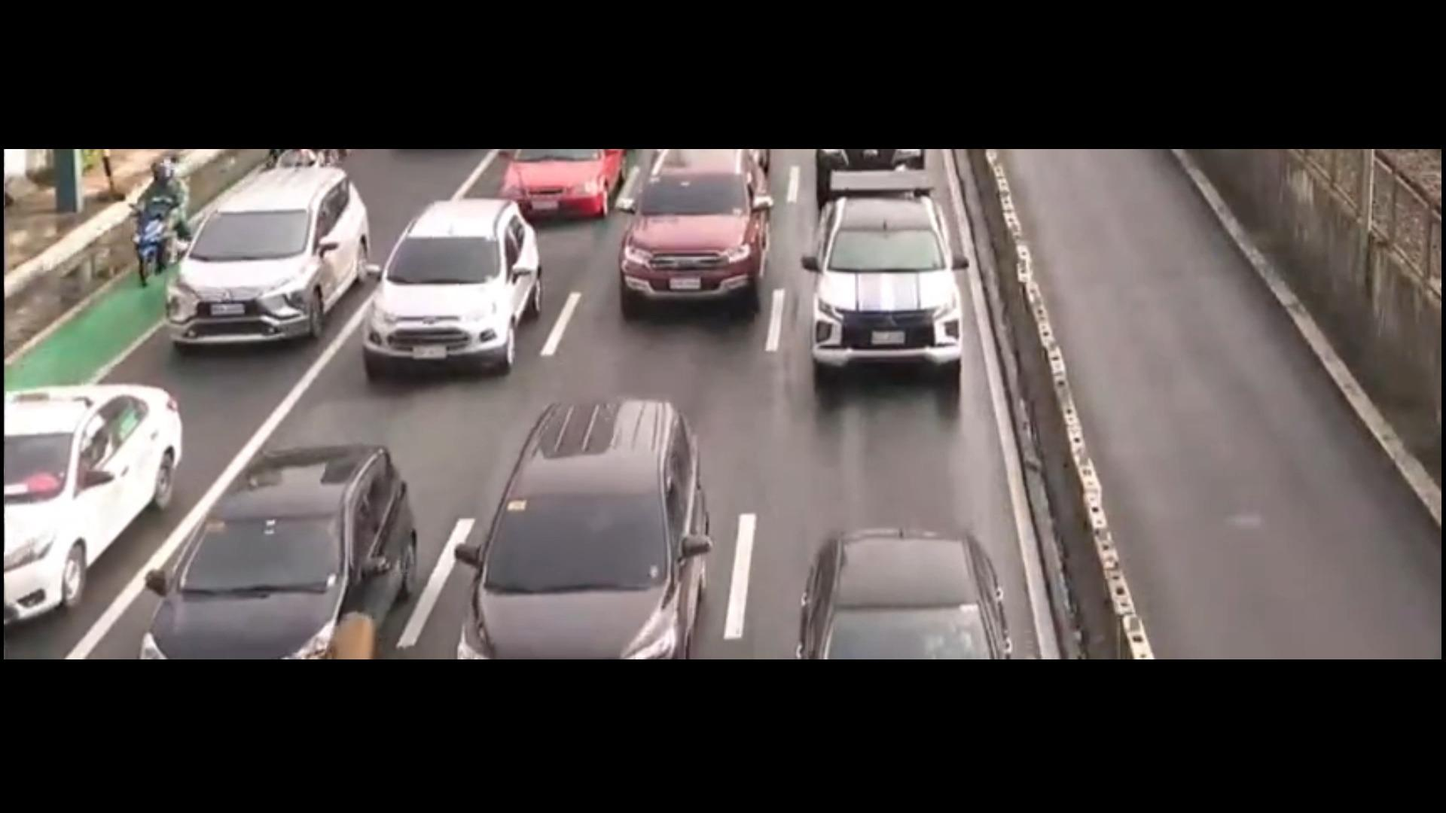Motorcycle: (120, 143, 213, 289)
SUV: (445, 401, 761, 660), (138, 426, 426, 661), (792, 181, 987, 416), (164, 149, 378, 358), (350, 181, 554, 393), (616, 151, 780, 328)
Sedan: (0, 362, 230, 622), (795, 508, 1004, 661)
